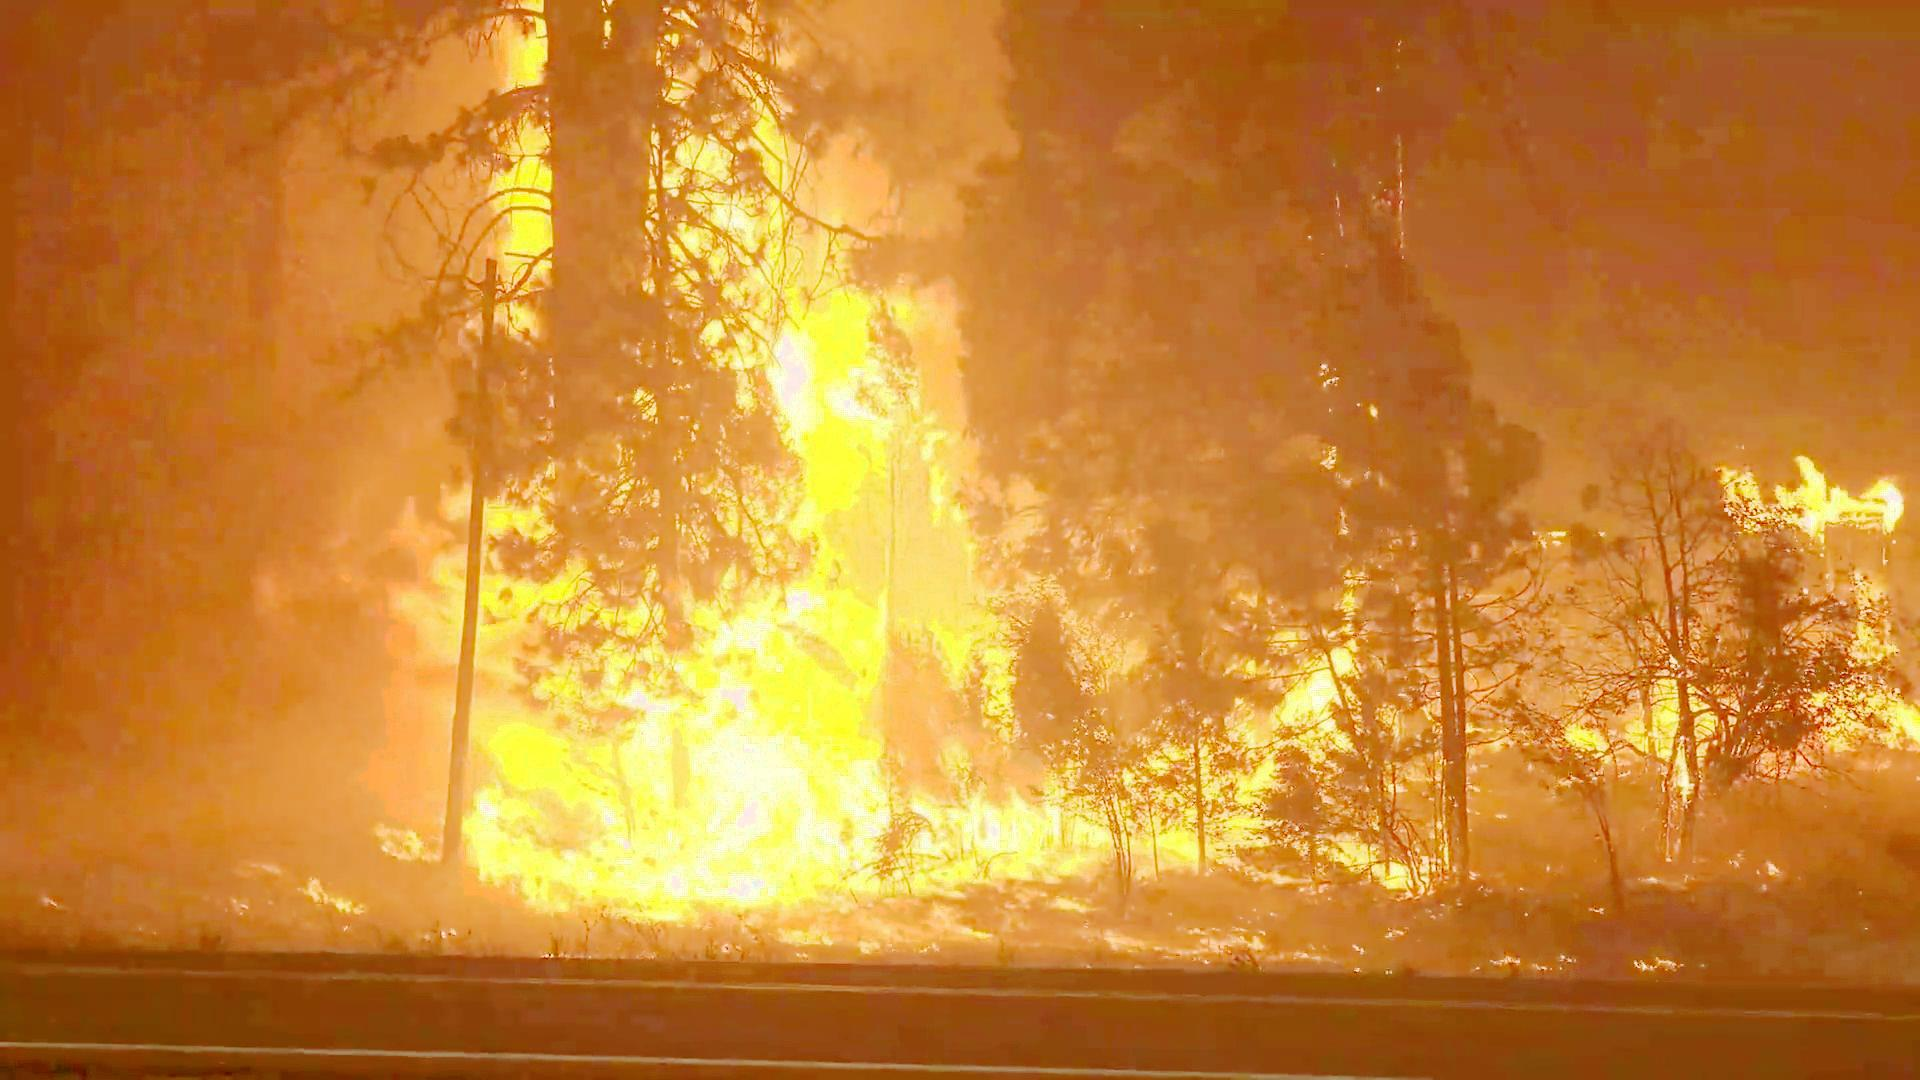fire: (554, 191, 997, 926), (953, 575, 1425, 951), (1775, 468, 1920, 630)
